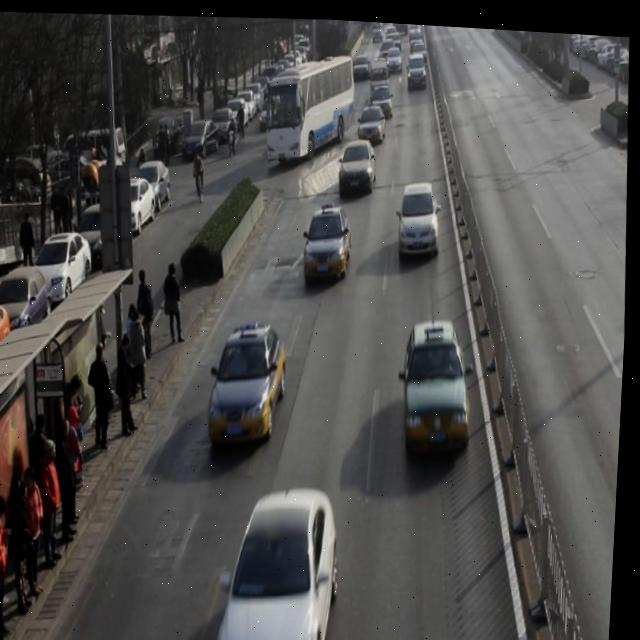car: (214, 470, 349, 640), (209, 317, 296, 451), (402, 313, 480, 451), (304, 199, 356, 280), (396, 173, 446, 257), (339, 133, 381, 194), (357, 98, 388, 143), (369, 78, 395, 113)
van: (262, 51, 358, 160)
